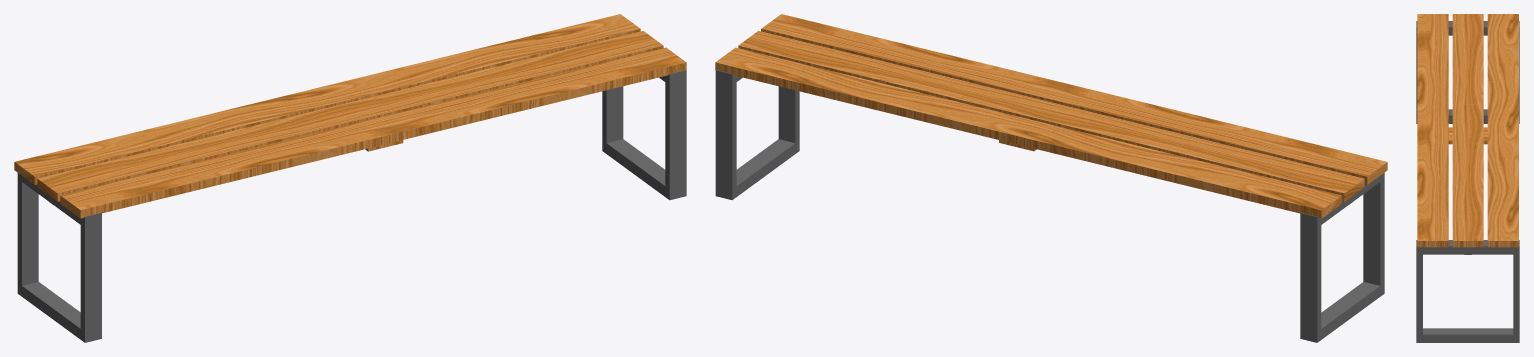
The model's file is Bench.fbx.
3 views of the same model, side by side, from view 1: azimuth 30°, elevation 25°; view 2: azimuth 150°, elevation 25°; view 3: azimuth 270°, elevation 25° (orthographic). The views are drawn at different scales.
Parts seen in each view (by area): view 1: Bench; view 2: Bench; view 3: Bench.
Boxes of the visible parts, bbox=[...] form: Bench: bbox=[14, 14, 686, 342]; Bench: bbox=[715, 14, 1387, 342]; Bench: bbox=[1416, 14, 1519, 342].
Size of the model in its own units: 2.66 by 0.559 by 0.5123.
Materials: 2 (1 with a texture image).
